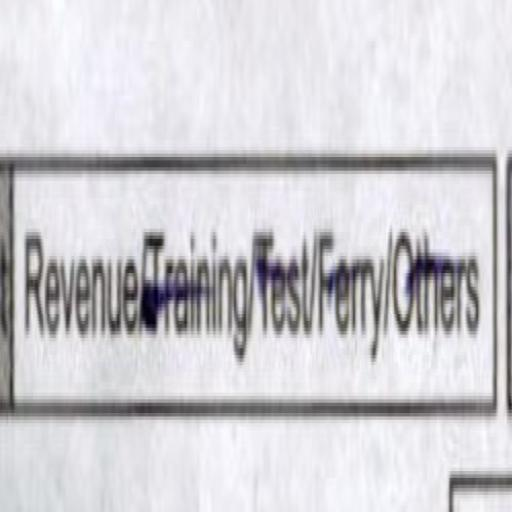check: (21, 158, 141, 418)
